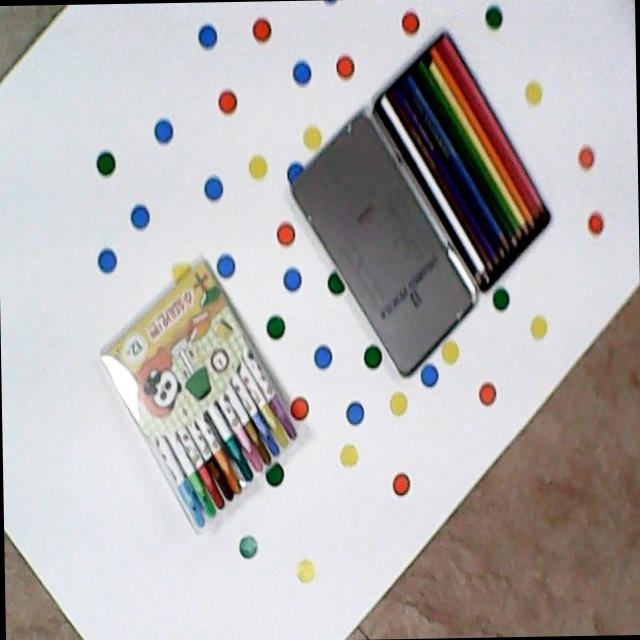color: (362, 17, 565, 302)
signpen: (84, 244, 310, 547)
